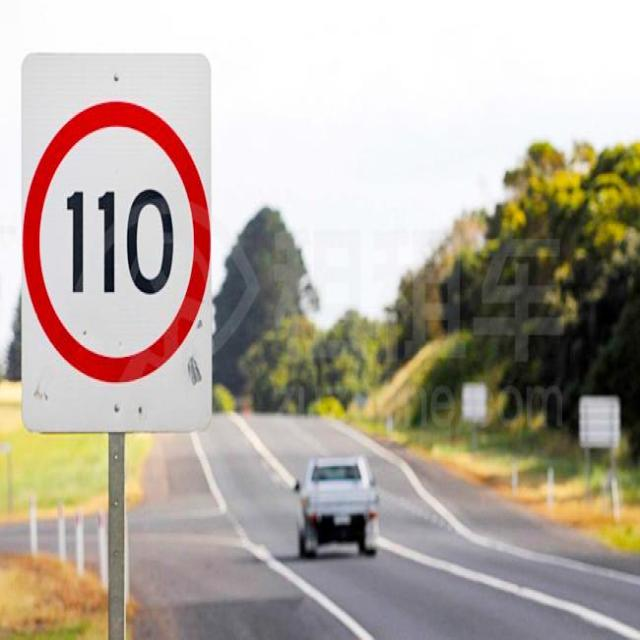speed limit 110: (22, 100, 211, 381)
